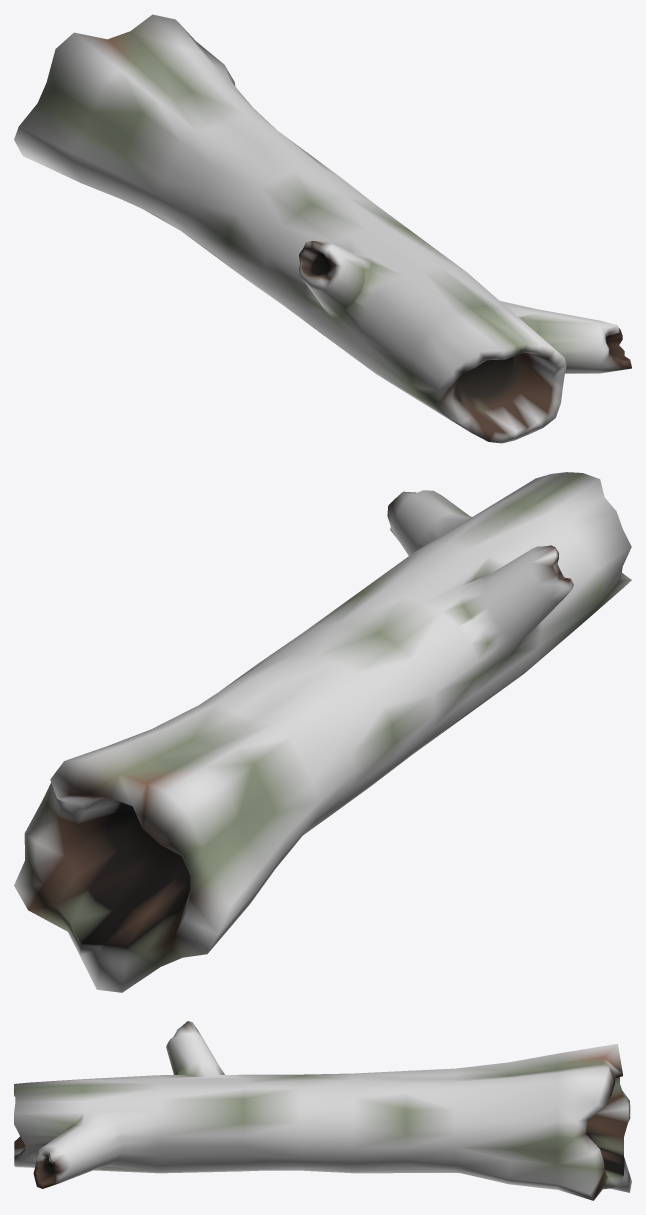
The model's file is DEAD_TRUNC.glb.
3 renders of one model, top to bottom at view 1: azimuth 30°, elevation 25°; view 2: azimuth 150°, elevation 25°; view 3: azimuth 270°, elevation 25°, orthographic. The views are drawn at different scales.
Visible parts, largest first — view 1: Cylinder; view 2: Cylinder; view 3: Cylinder.
Boxes of the visible parts, x1,y1,x2,y2 form: Cylinder: (14, 14, 631, 443); Cylinder: (14, 472, 631, 992); Cylinder: (14, 1021, 631, 1200).
Bounding box in the file's own units: 3.24 × 2.35 × 9.59.
